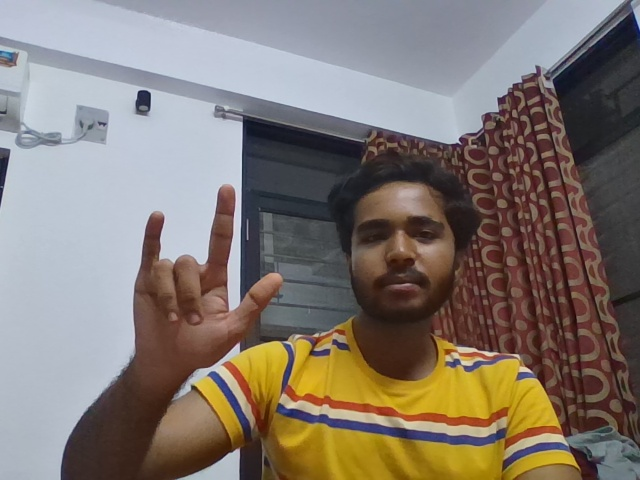I Love You: (108, 177, 301, 397)
